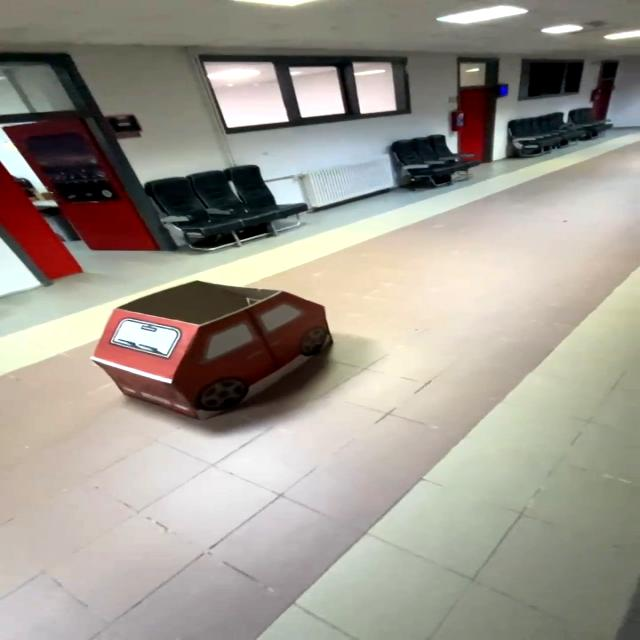red_car: (75, 272, 379, 447)
